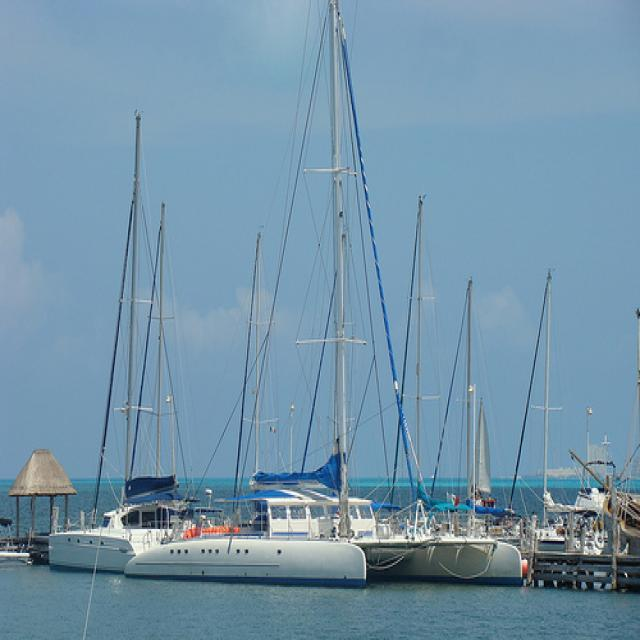Ship: (51, 56, 366, 588), (394, 258, 587, 579)
